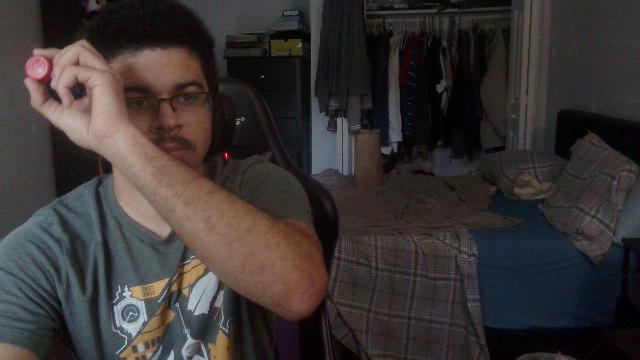cap: (24, 55, 52, 83)
